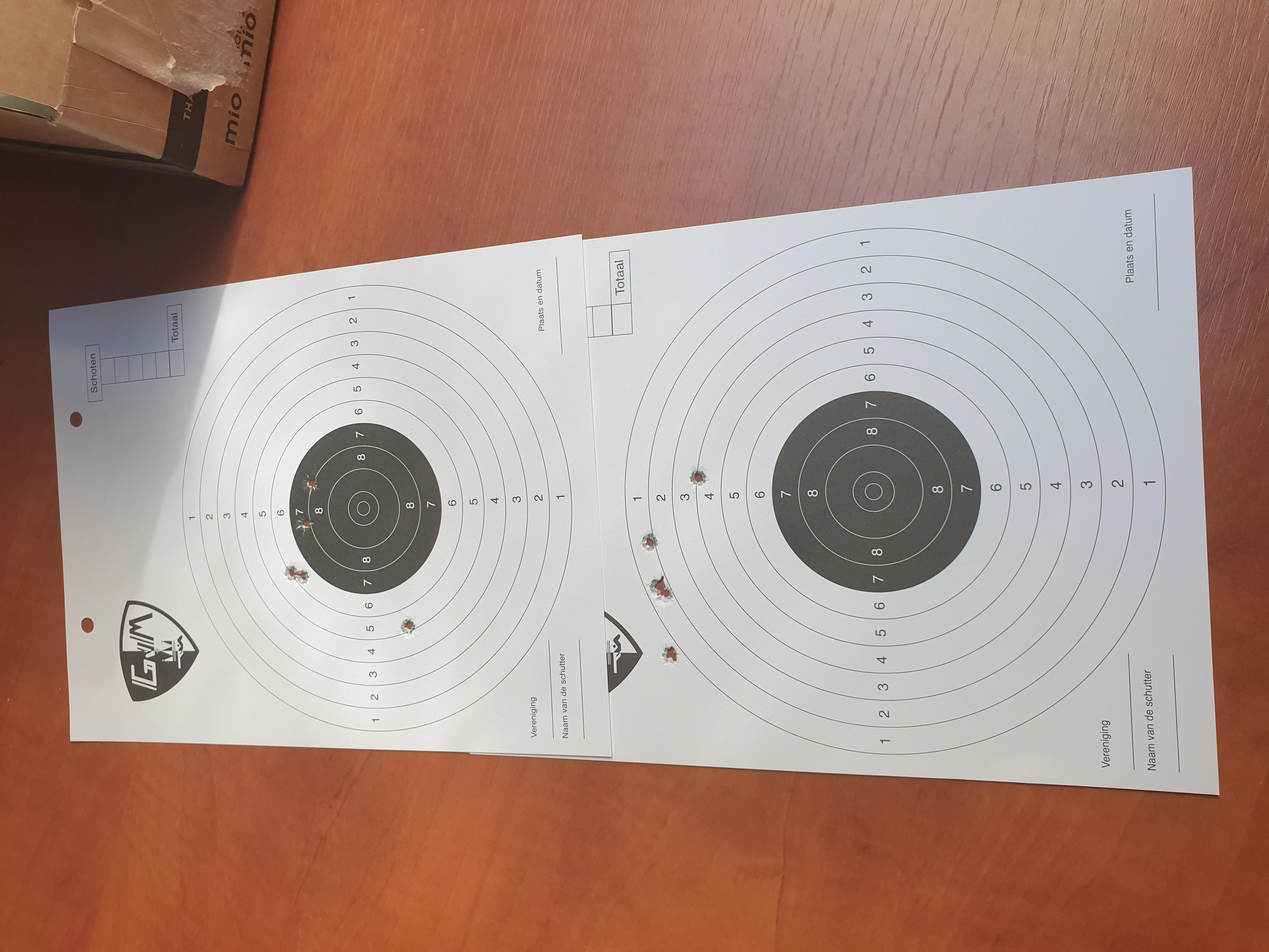hole: (851, 314, 871, 337), (954, 418, 974, 438), (590, 286, 609, 307), (610, 400, 629, 420), (948, 460, 966, 480), (561, 465, 580, 483), (602, 360, 622, 376), (595, 347, 612, 363), (971, 370, 985, 388), (959, 367, 972, 383)
